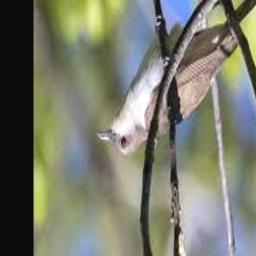Cuckoo: (98, 0, 256, 156)
